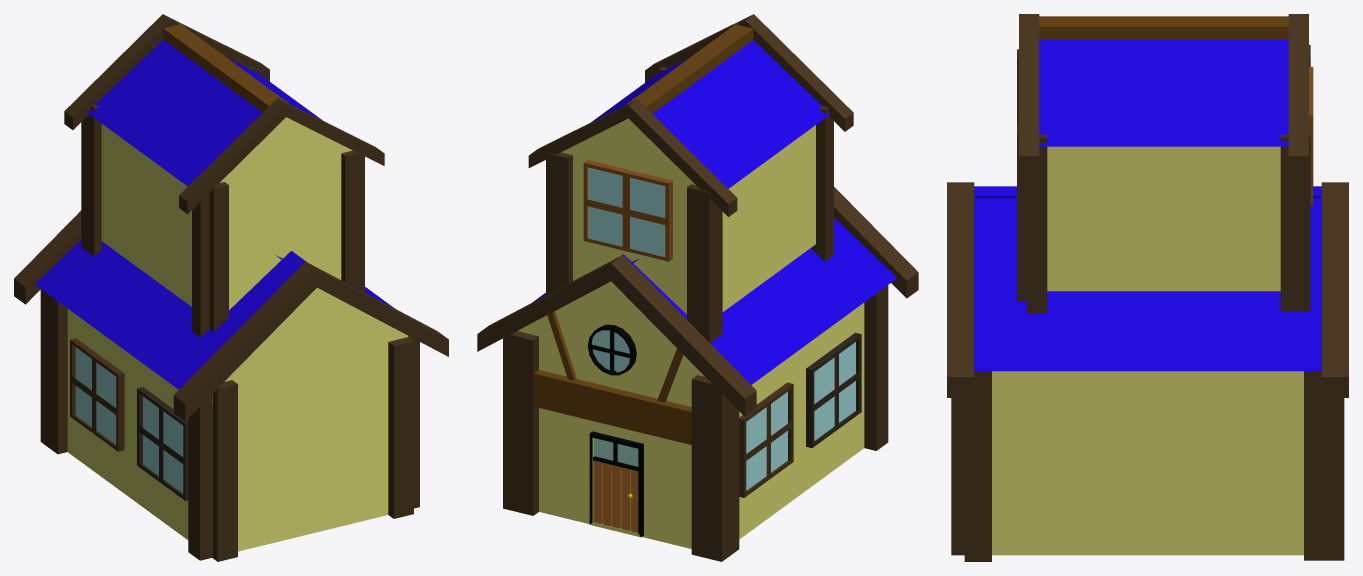
The model's file is casa2.fbx.
3 renders of one model, left to right at view 1: azimuth 30°, elevation 25°; view 2: azimuth 150°, elevation 25°; view 3: azimuth 270°, elevation 25°, orthographic. The views are drawn at different scales.
Parts seen in each view (by area): view 1: BASEtecho.001, BASEtecho.008, BASEtecho.002, techo maloo, techo maloo.002, BASEtecho.007, BASEtecho.004, BASEtecho, BASEtecho.006, BASEtecho.009, Cube.010, Cube.011 (+3 smaller); view 2: BASEtecho.001, BASEtecho.002, BASEtecho.008, techo maloo.002, techo maloo, BASEtecho.007, BASEtecho.004, BASEtecho.006, BASEtecho, Cube.005, Plane.002, BASEtecho.009 (+11 smaller); view 3: BASEtecho.001, techo maloo, BASEtecho.008, techo maloo.002, BASEtecho.002, BASEtecho.004, BASEtecho.007, BASEtecho.006, Cube.010, BASEtecho.009, BASEtecho, Cube.009.
Part boxes in pixels (x1,y1,x2,y2): BASEtecho.001: (67,309,388,557); BASEtecho.008: (101,127,341,309); BASEtecho.002: (40,289,419,561); techo maloo: (35,240,394,389); techo maloo.002: (87,40,322,186); BASEtecho.007: (81,66,364,337); BASEtecho.004: (14,210,448,421); BASEtecho: (212,288,408,403); BASEtecho.006: (64,14,384,214); BASEtecho.009: (101,117,352,200); Cube.010: (163,23,288,112); Cube.011: (70,338,124,451); BASEtecho.001: (539,303,864,548); BASEtecho.002: (503,285,888,561); BASEtecho.008: (573,128,815,314); techo maloo.002: (592,40,830,188); techo maloo: (532,217,896,384); BASEtecho.007: (546,67,833,342); BASEtecho.004: (477,187,918,416); BASEtecho.006: (528,14,853,216); BASEtecho: (518,281,704,393); Cube.005: (534,370,691,444); Plane.002: (588,167,665,256); BASEtecho.009: (561,118,815,203); BASEtecho.001: (992,375,1303,555); techo maloo: (974,186,1321,371); BASEtecho.008: (1047,156,1280,291); techo maloo.002: (1039,40,1288,146); BASEtecho.002: (951,371,1344,561); BASEtecho.004: (947,182,1348,397); BASEtecho.007: (1017,45,1310,313); BASEtecho.006: (1019,14,1308,171); Cube.010: (1034,16,1291,39); BASEtecho.009: (1047,146,1280,156); BASEtecho: (992,371,1303,374); Cube.009: (1309,67,1313,205).
Size of the model in its own units: 394 by 589 by 443.
